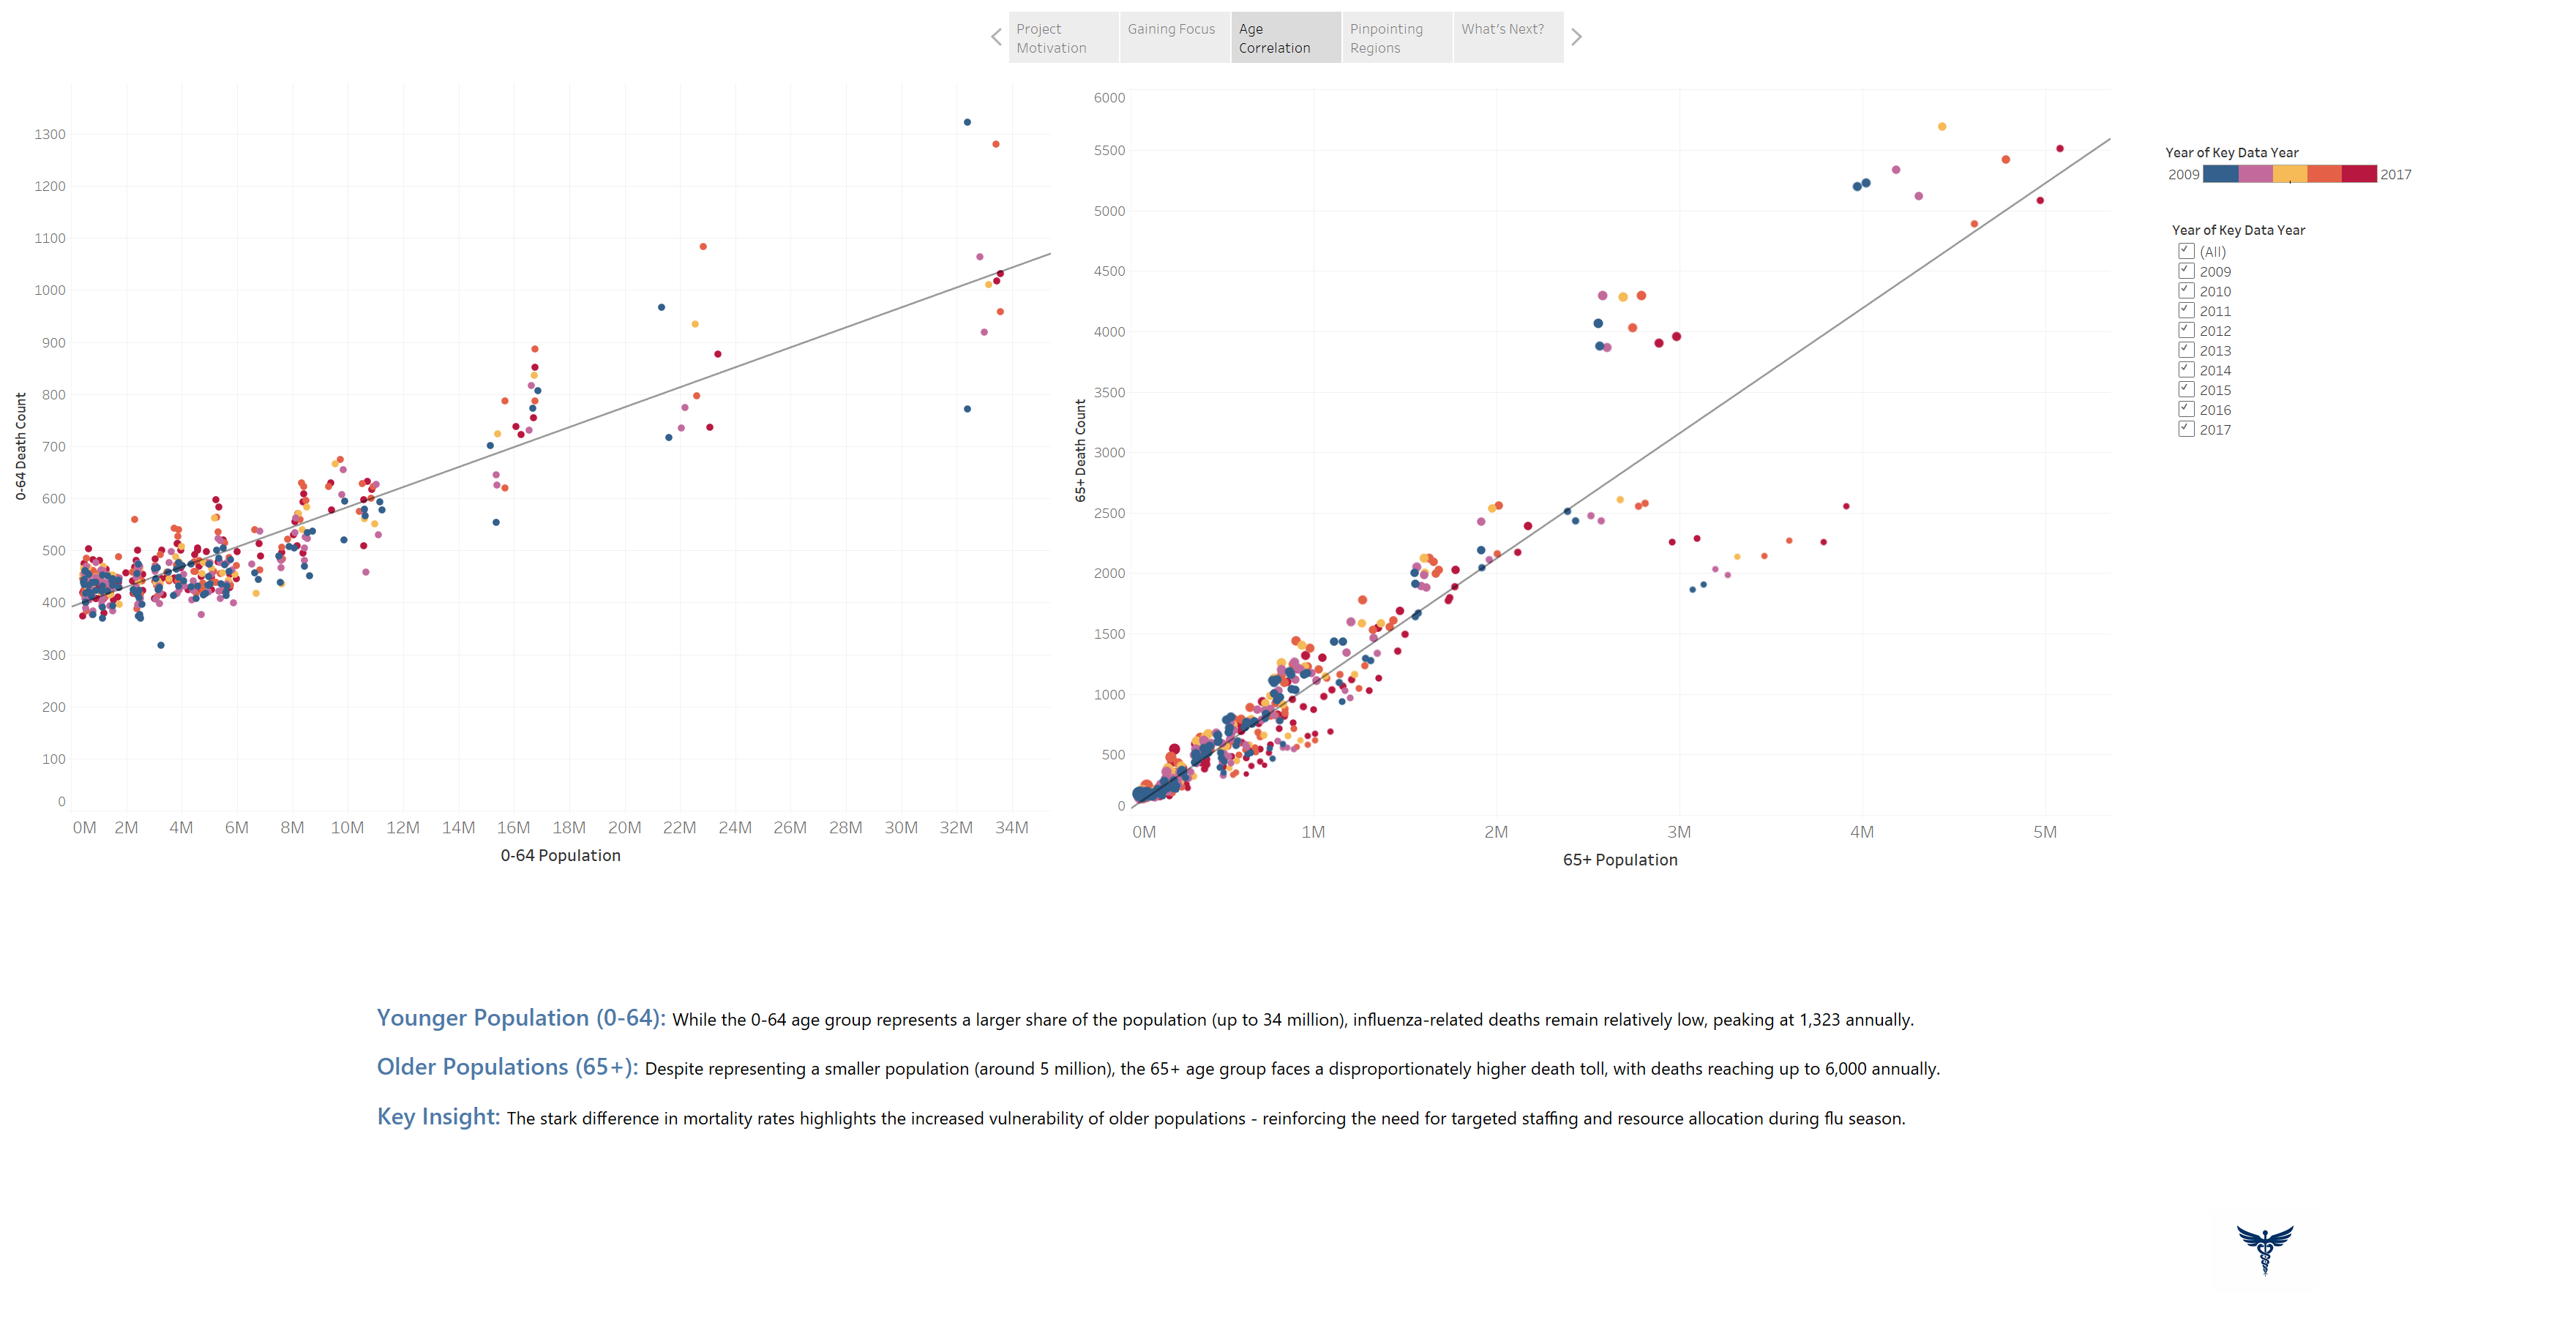

What the dashboard file says about the page in this screenshot:
{"tool":"tableau","page":{"name":"Age Range Correlation","canvas":[1000,1000],"units":"permille","ordinal":0},"visuals":[{"type":"worksheet","title":"Under 65 Population vs Death Count","mark":"Automatic","rows":["0-64 Years 1"],"cols":["0-64 Years"],"box":[1.1,4.9,407.2,631.5]},{"type":"worksheet","title":"65+ Population vs. Death Count","mark":"Automatic","rows":["65+ Years 1"],"cols":["65+ Years"],"box":[414,8.2,407.2,631.5]},{"type":"legend","title":"65+ Population vs. Death Count","param":"[federated.0y0kzsj1l8xbhz1h5ww0w1sx6vbn].[yr:Key Data Year:qk]","box":[842.2,52,97.6,53.7]},{"type":"filter","title":"65+ Population vs. Death Count","param":"[federated.0y0kzsj1l8xbhz1h5ww0w1sx6vbn].[yr:Key Data Year:ok]","box":[844.9,114.2,135.9,256.6]},{"type":"text","box":[144.4,647.9,734,289.9]},{"type":"image","param":"C:/Users/drbar/Pictures/Stock Images/Medical/AdobeStock_153653633.jpeg","box":[860.1,906.2,54.4,69.9]}]}

Visuals, with their boxes on the dashboard's canvas, which has no fixed pixel size, in thousandths of its width and height (x1, y1, x2, y2). These are canvas units, not pixel positions in the 2576x1330 screenshot, which may show the page scaled, cropped or inside an application window:
"Under 65 Population vs Death Count" worksheet: Rect(1, 5, 408, 636)
"65+ Population vs. Death Count" worksheet: Rect(414, 8, 821, 640)
"65+ Population vs. Death Count" legend: Rect(842, 52, 940, 106)
"65+ Population vs. Death Count" filter: Rect(845, 114, 981, 371)
text: Rect(144, 648, 878, 938)
image: Rect(860, 906, 914, 976)
